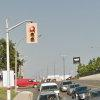Traffic light: (21, 13, 52, 47)
